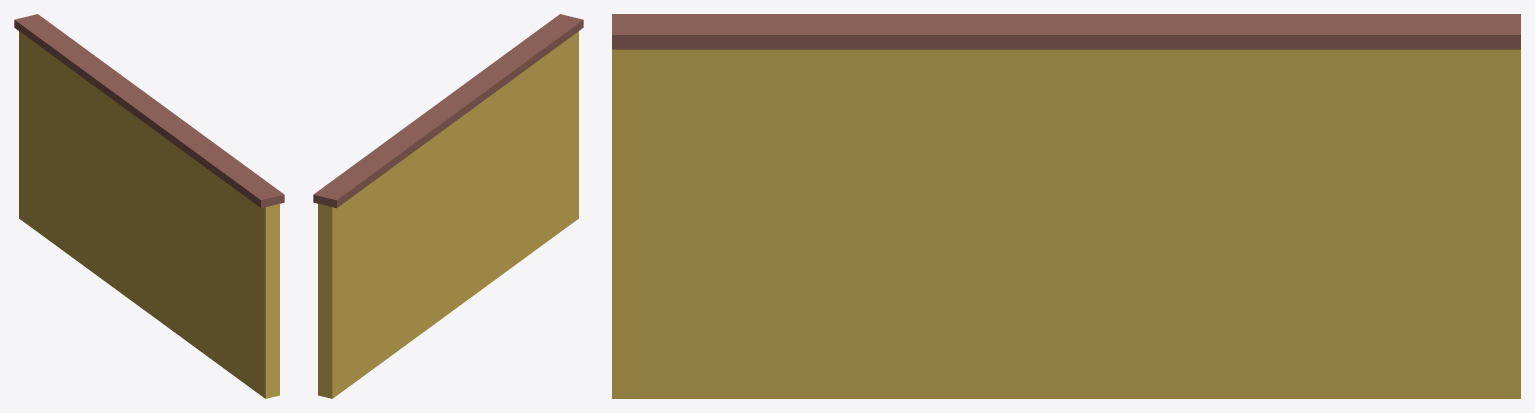
Rendered from Wall01.fbx.
3 views of the same model, side by side, from view 1: azimuth 30°, elevation 25°; view 2: azimuth 150°, elevation 25°; view 3: azimuth 270°, elevation 25° (orthographic). The views are drawn at different scales.
Parts seen in each view (by area): view 1: Wall01; view 2: Wall01; view 3: Wall01.
Boxes of the visible parts, <box> form: Wall01: <box>14,14,284,398</box>; Wall01: <box>313,14,583,398</box>; Wall01: <box>612,14,1520,398</box>.
Bounding box in the file's own units: 11.96 × 97.56 × 218.
